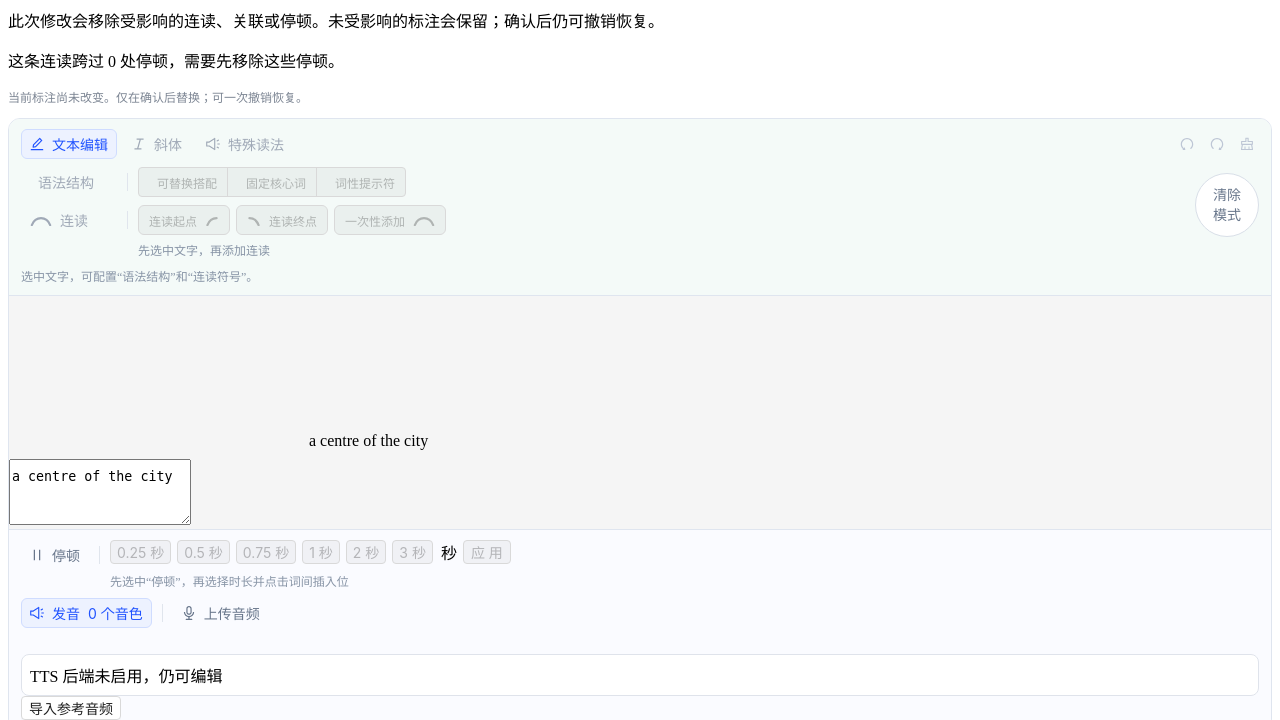
it: VoiceEditor 文本与落盘 › 连着敲的一串字只占一步撤销
Replace the text in the text box named "语音编辑器" with "a c" at (100,492), box [9,459,191,525]
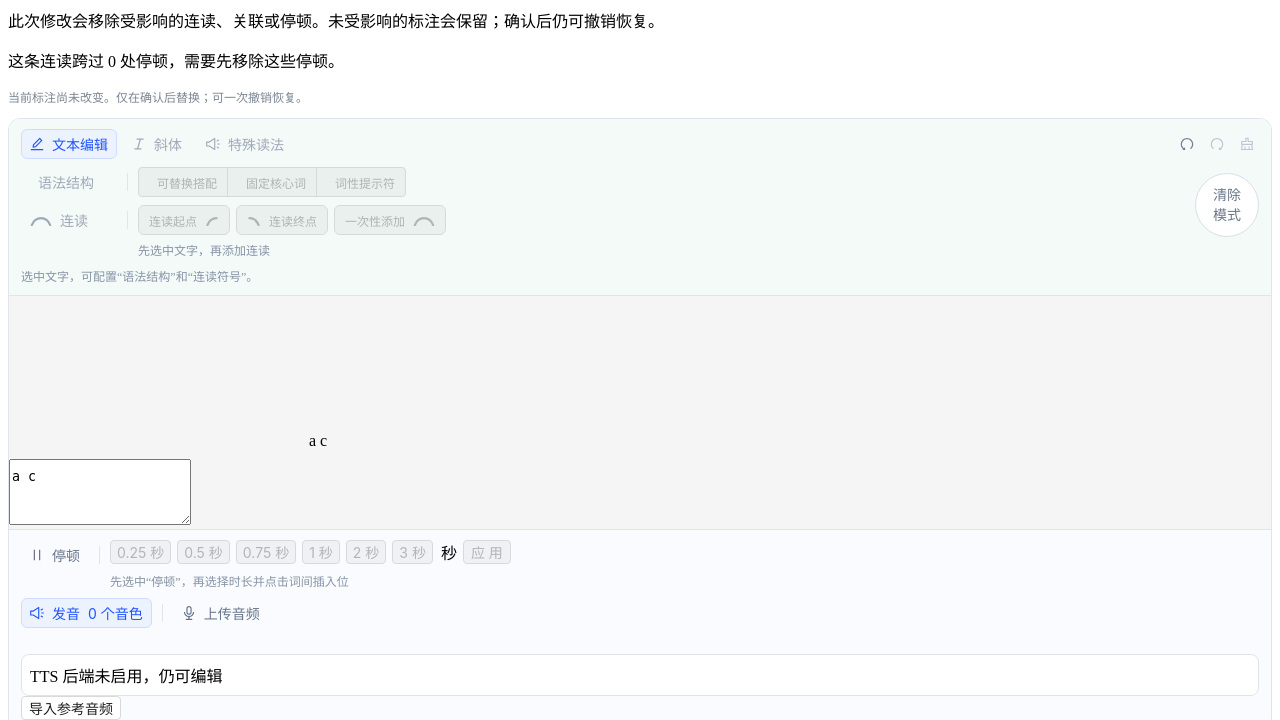
Replace the text in the text box named "语音编辑器" with "a ce" at (100,492), box [9,459,191,525]
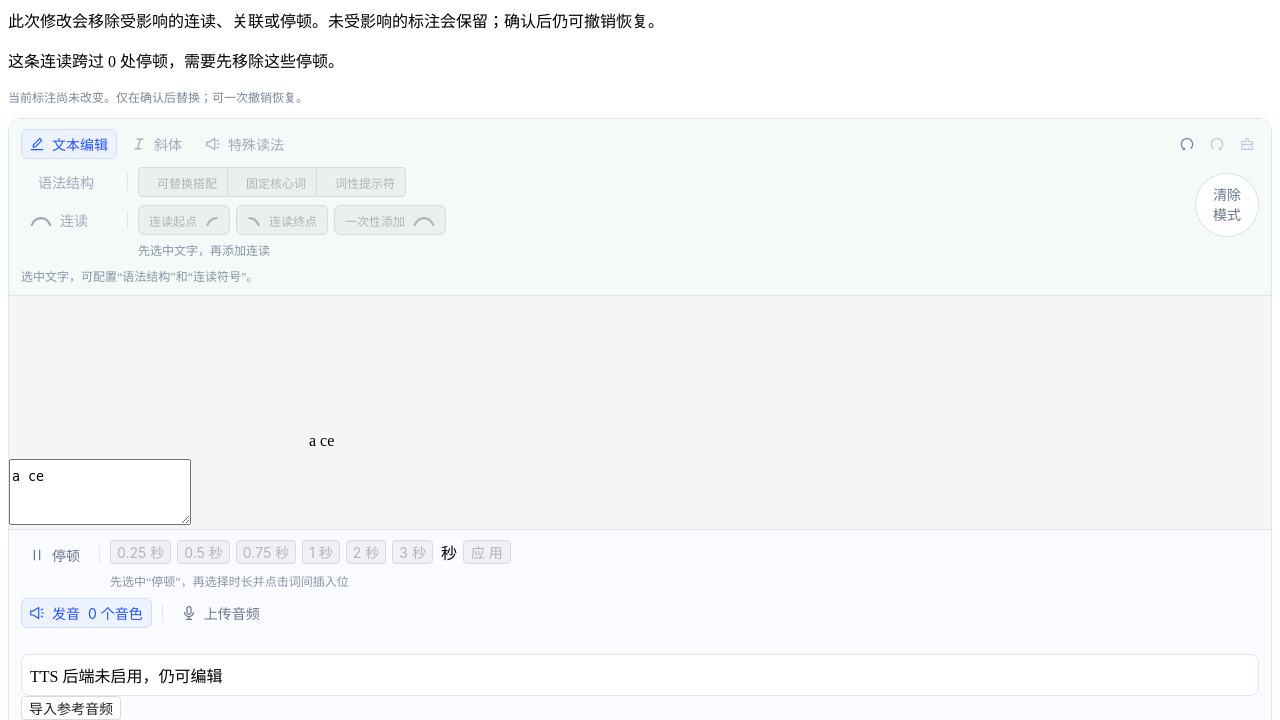
Replace the text in the text box named "语音编辑器" with "a cen" at (100,492), box [9,459,191,525]
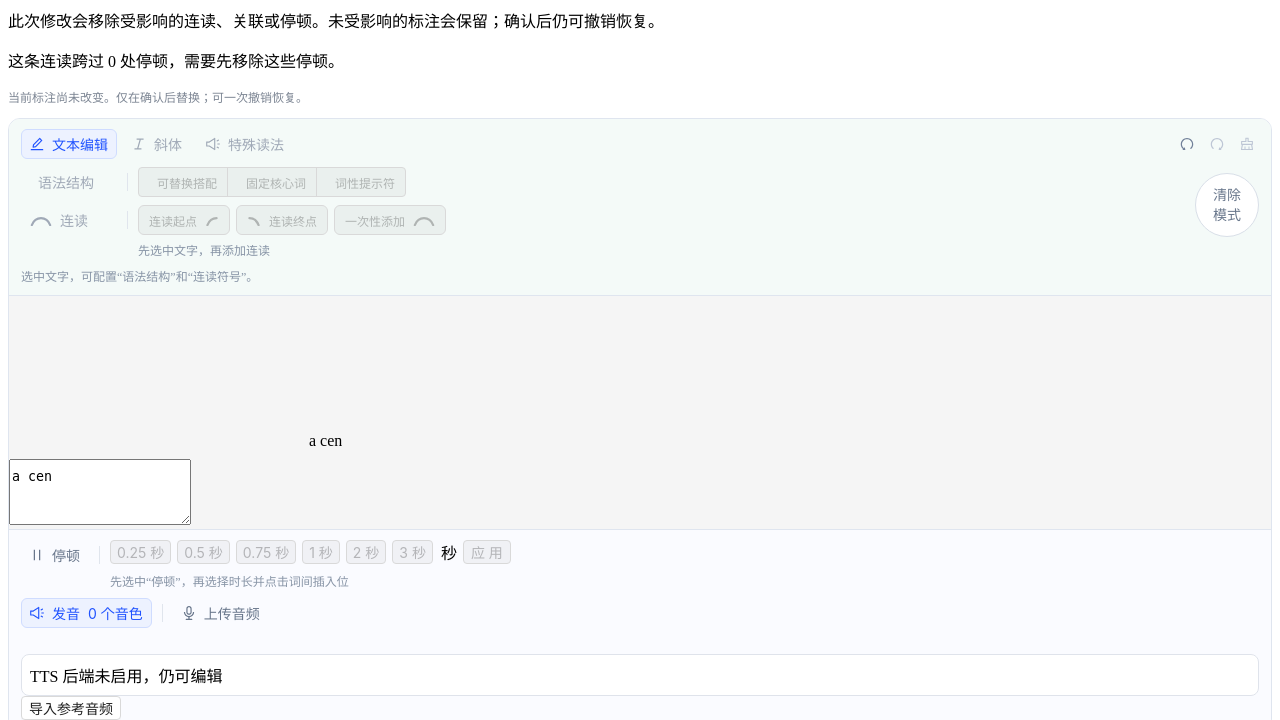
Replace the text in the text box named "语音编辑器" with "a cent" at (100,492), box [9,459,191,525]
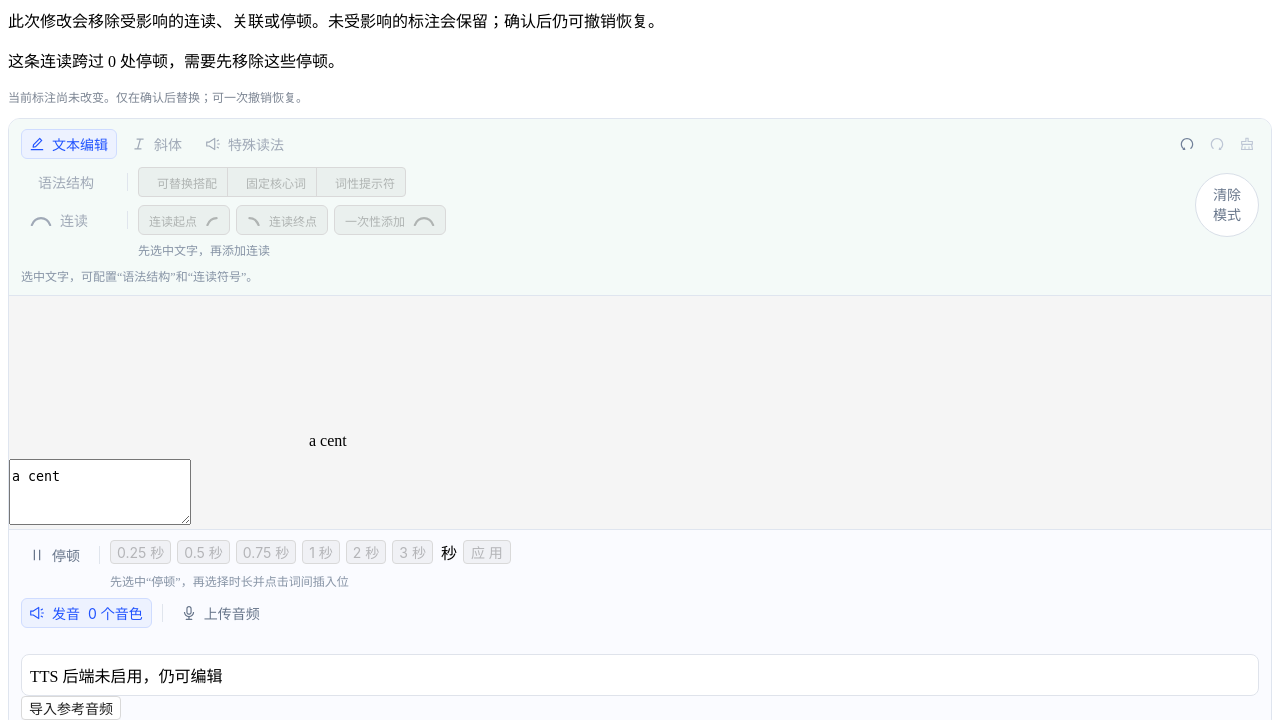
Click the button named "上一步" at (1187,144), box [1173,129,1201,159]
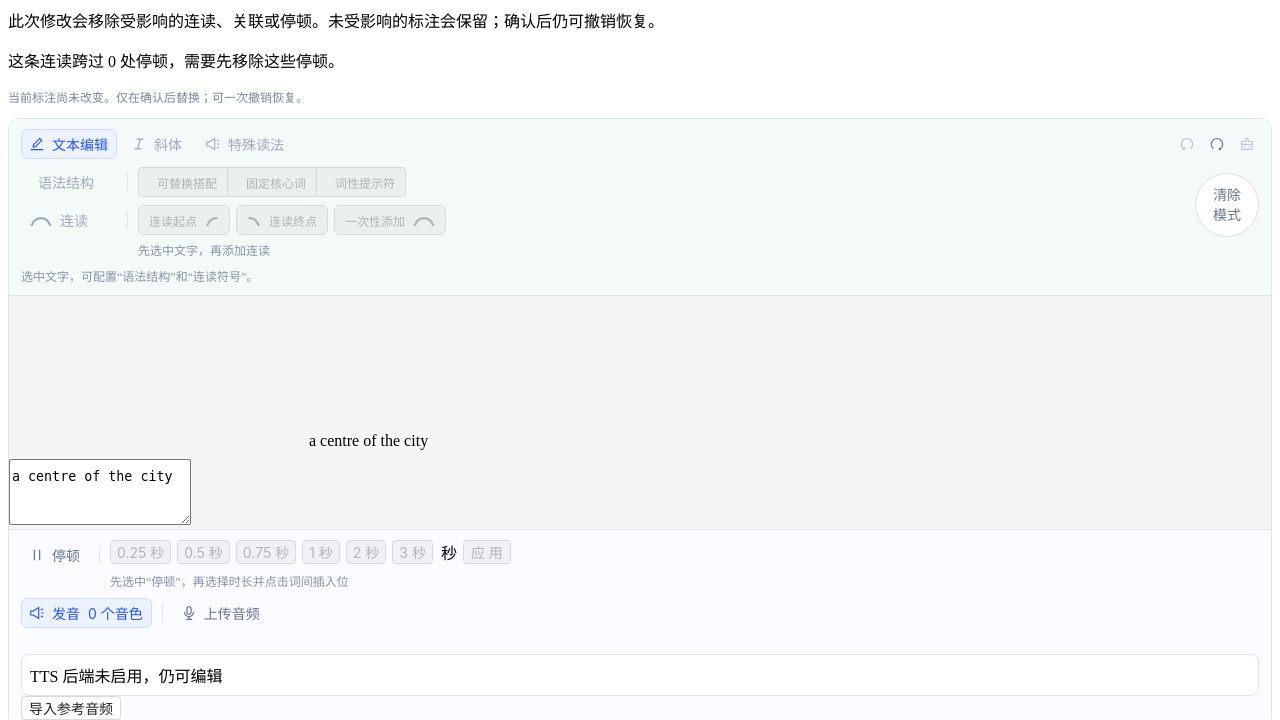
Result: the text box named "语音编辑器" holds "a centre of the city" at [9,459,191,525]
Result: the button named "上一步" is disabled at [1173,129,1201,159]
